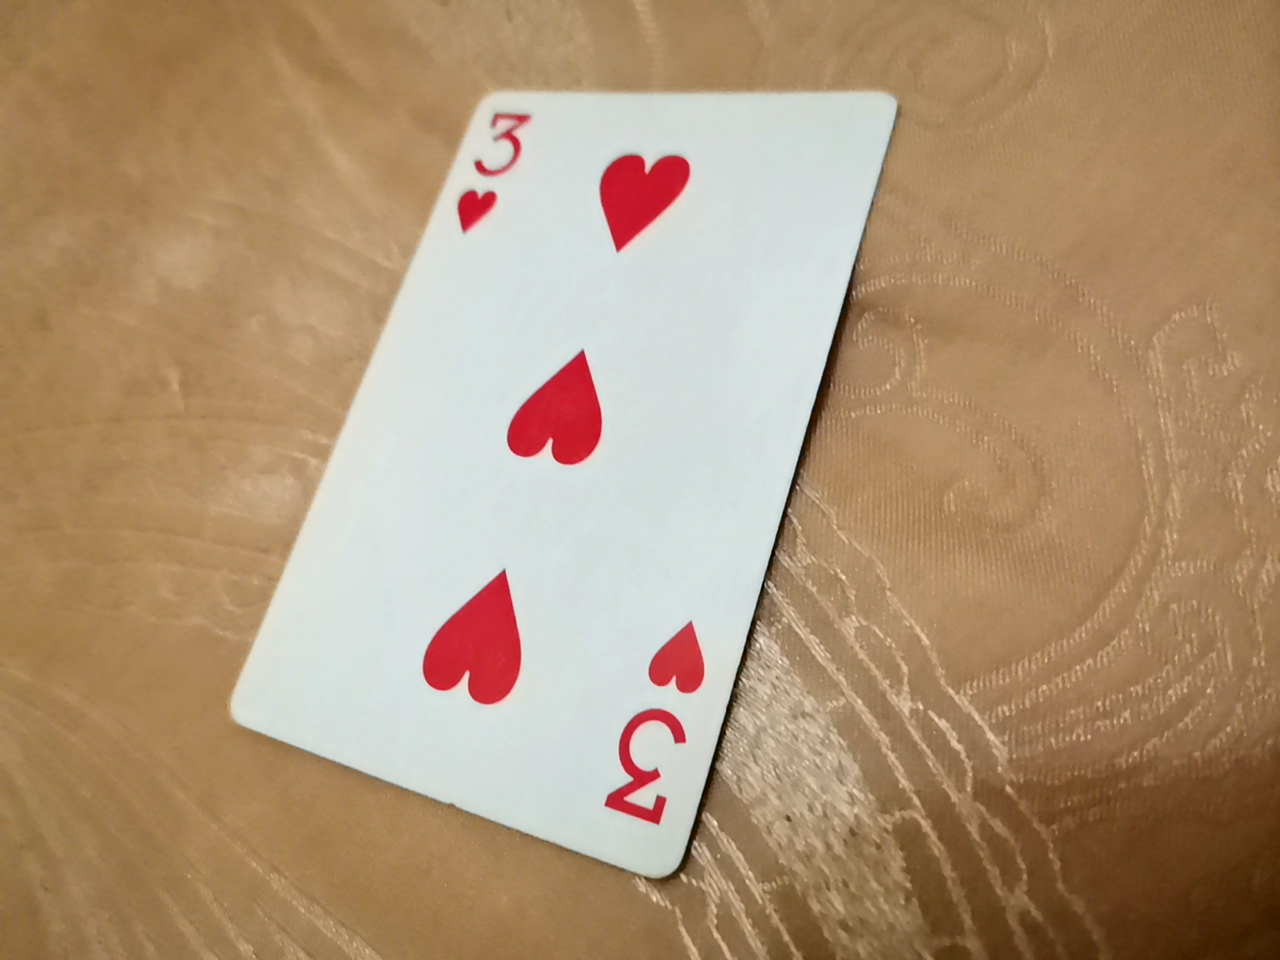hx 3: (231, 74, 898, 891)
